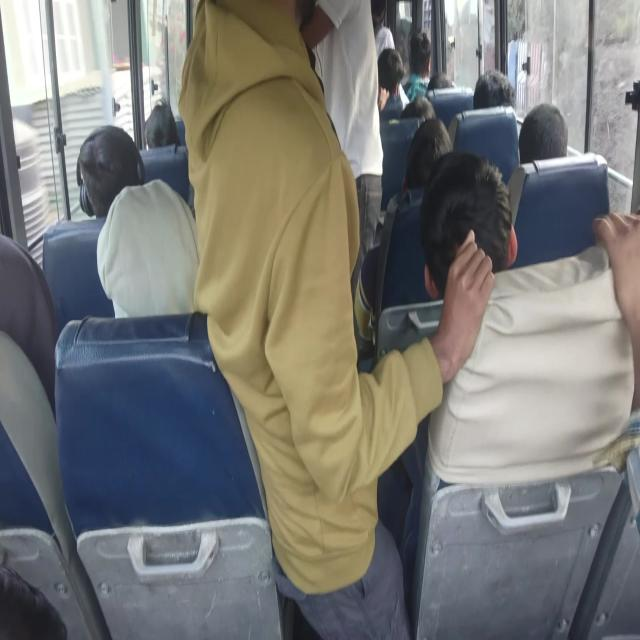person: (162, 8, 371, 370), (298, 0, 400, 234), (434, 165, 536, 277), (121, 170, 197, 295), (0, 241, 53, 352), (513, 108, 588, 163), (78, 125, 144, 187), (398, 97, 447, 146), (149, 96, 184, 144), (382, 60, 418, 104), (472, 78, 503, 119), (412, 140, 444, 176), (412, 29, 437, 67), (430, 66, 452, 100), (364, 0, 385, 32)
